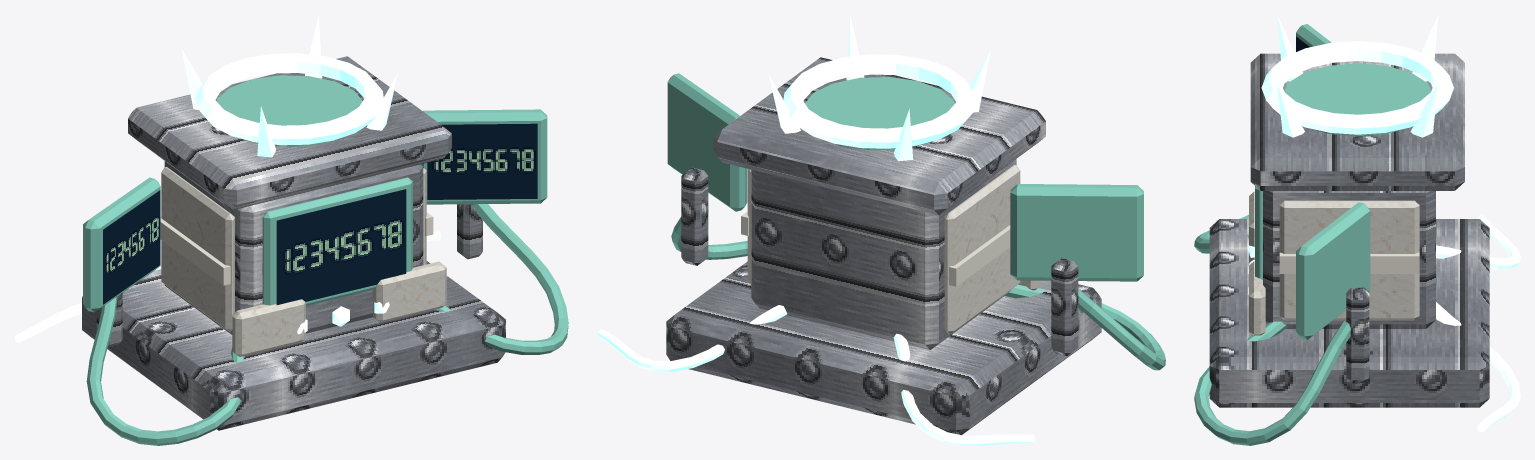
The model's file is porygon.glb.
The picture shows the model from 3 angles, left to right: view 1: azimuth 30°, elevation 25°; view 2: azimuth 150°, elevation 25°; view 3: azimuth 270°, elevation 25°; orthographic projection. The views are drawn at different scales.
Visible parts, largest first — view 1: Terminal, Display, Cables, Ring, Screen1, Lens, Screen-1, Prongs; view 2: Terminal, Ring, Cables, Lens, Prongs; view 3: Terminal, Ring, Cables, Lens, Prongs.
Boxes of the visible parts, box(x1,y1,x2,y2) form: Terminal: box(82, 56, 547, 430); Display: box(276, 189, 406, 304); Cables: box(14, 204, 568, 445); Ring: box(195, 53, 383, 145); Screen1: box(427, 123, 537, 199); Lens: box(217, 75, 362, 146); Screen-1: box(103, 190, 160, 304); Prongs: box(181, 15, 397, 157); Terminal: box(666, 57, 1143, 435); Ring: box(783, 54, 976, 148); Cables: box(597, 217, 1165, 445); Lens: box(805, 77, 954, 150); Prongs: box(768, 14, 990, 161); Terminal: box(1209, 24, 1489, 407); Ring: box(1261, 41, 1453, 134); Cables: box(1194, 214, 1520, 445); Lens: box(1284, 63, 1431, 136); Prongs: box(1277, 14, 1438, 137).
Bounding box in the file's own units: 3.33 × 1.95 × 1.98.
7 materials, 3 textured.
